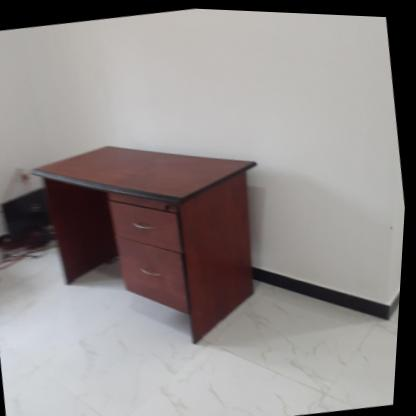Table: (13, 106, 311, 381)
